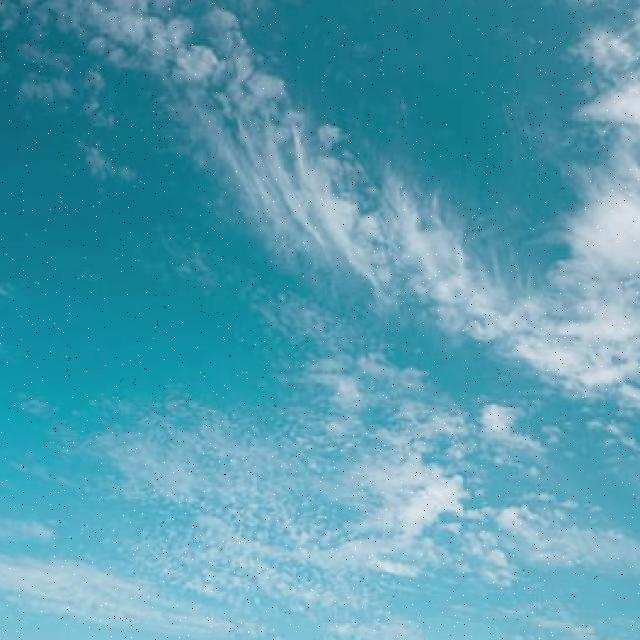Ci: (1, 1, 640, 517)
